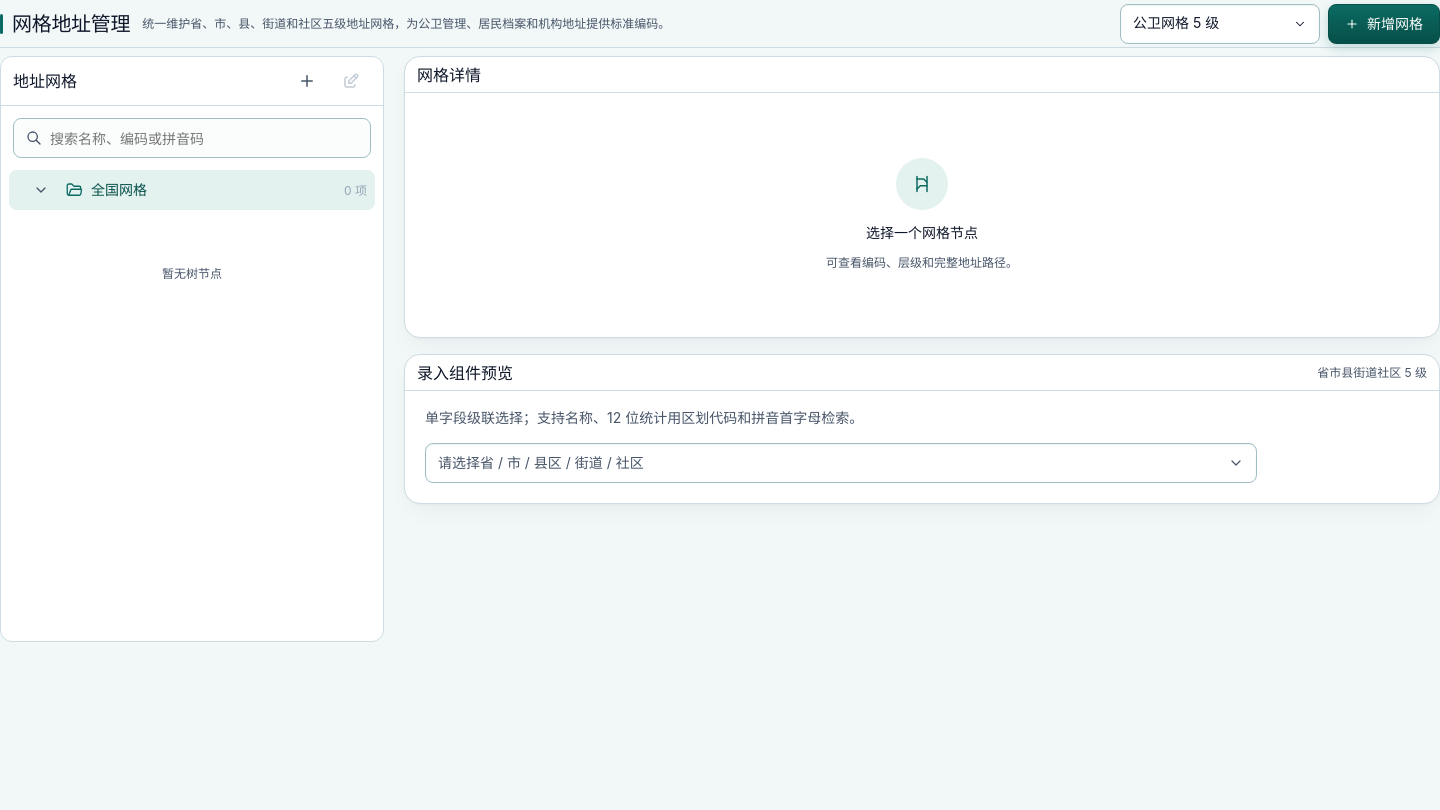
Test: grid address management verification › allows a verified empty catalog to create its first province
Check: the list item "全国网格 0 项" is shown, box [9, 170, 375, 210]
What coordinates should you click on to do the following:
click the button "新增网格"
I would click on:
 (1384, 24)
Its box is [1328, 4, 1439, 44].
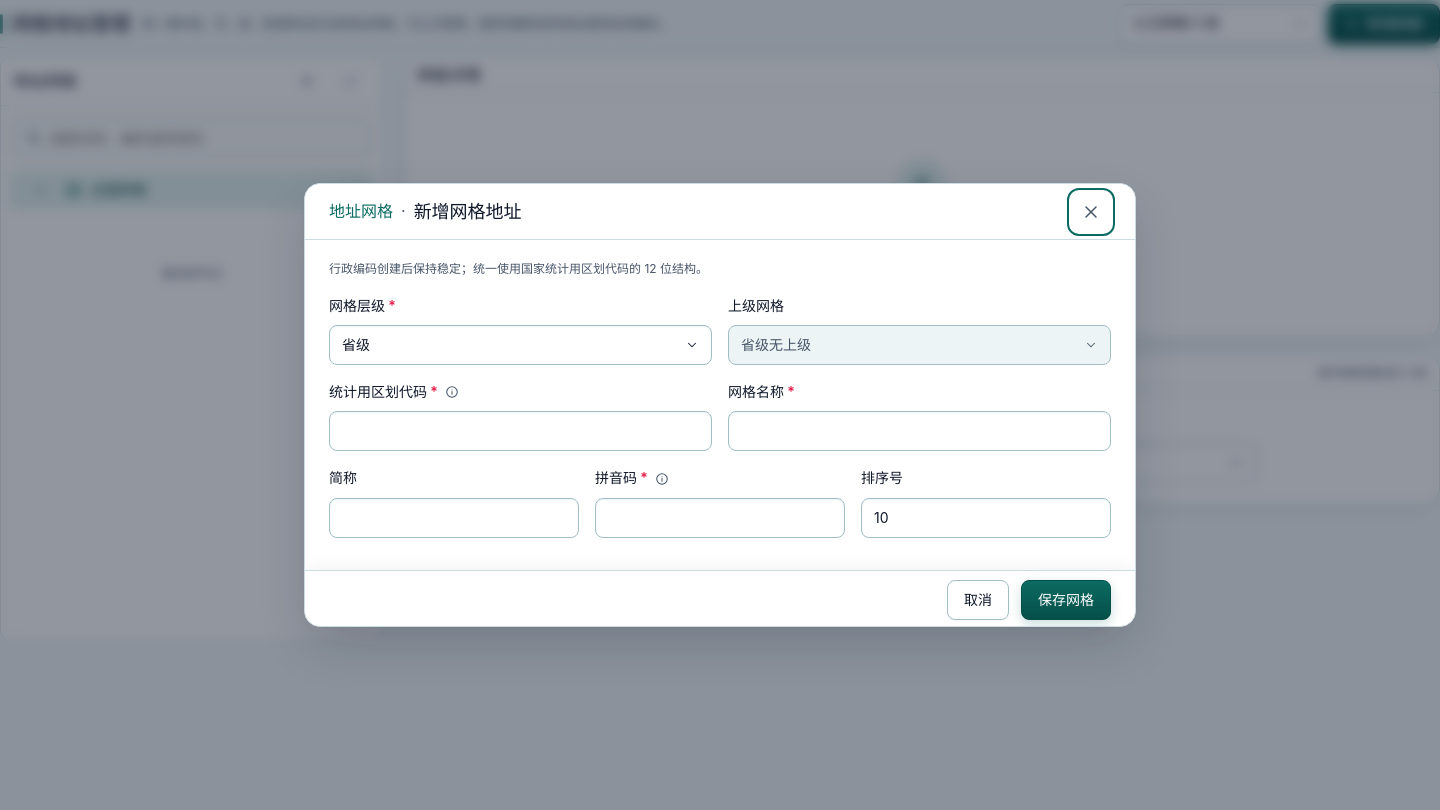
Check: the dialog "新增网格地址" is shown, box [304, 183, 1136, 627]
